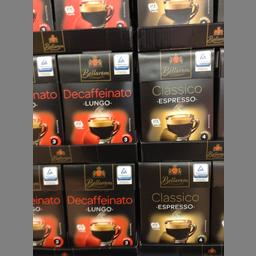coffee: (57, 50, 136, 142), (138, 48, 212, 139), (62, 162, 136, 247), (136, 160, 210, 243)
